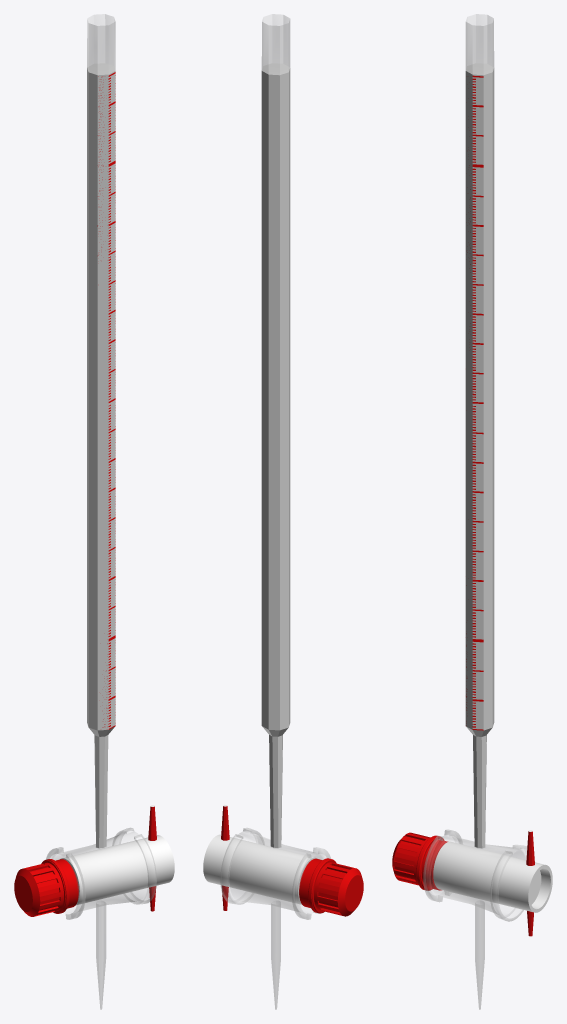
The model's file is Buret3.fbx.
3 views of the same model, side by side, from view 1: azimuth 30°, elevation 25°; view 2: azimuth 150°, elevation 25°; view 3: azimuth 330°, elevation 25° (orthographic).
Parts seen in each view (by area): view 1: Plane.002, Plane.014, Cylinder.002, Cylinder.003, Plane.001; view 2: Plane.002, Plane.014, Cylinder.002, Cylinder.003; view 3: Plane.002, Plane.014, Cylinder.002, Cylinder.003, Plane.001.
Part boxes in pixels (x1=…): Plane.002: x1=87, y1=63, x2=115, y2=848; Plane.014: x1=46, y1=14, x2=156, y2=1009; Cylinder.002: x1=60, y1=805, x2=174, y2=911; Cylinder.003: x1=14, y1=859, x2=78, y2=916; Plane.001: x1=97, y1=72, x2=115, y2=729; Plane.002: x1=261, y1=63, x2=290, y2=847; Plane.014: x1=220, y1=14, x2=330, y2=1009; Cylinder.002: x1=203, y1=804, x2=317, y2=910; Cylinder.003: x1=299, y1=858, x2=363, y2=916; Plane.002: x1=465, y1=63, x2=494, y2=848; Plane.014: x1=423, y1=14, x2=527, y2=1009; Cylinder.002: x1=433, y1=830, x2=552, y2=936; Cylinder.003: x1=392, y1=832, x2=448, y2=890; Plane.001: x1=465, y1=75, x2=483, y2=730.
Bounding box in the file's own units: 157 × 1066 × 75.59.
6 materials, 1 textured.
